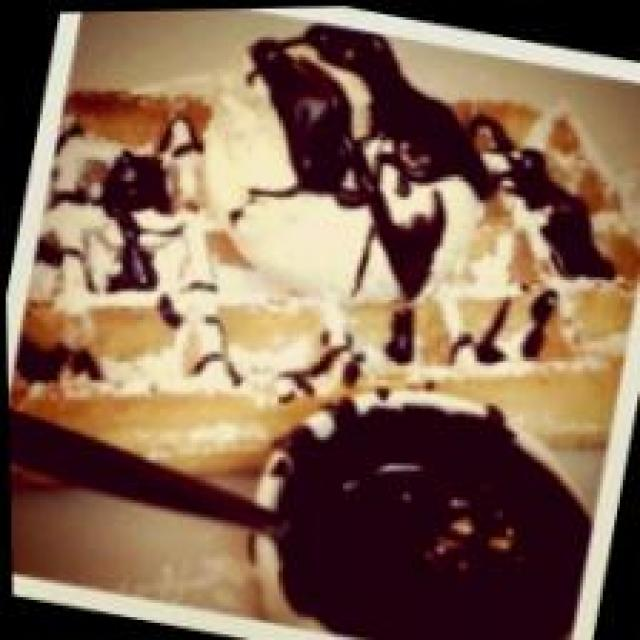Waffles: (0, 0, 640, 577)
